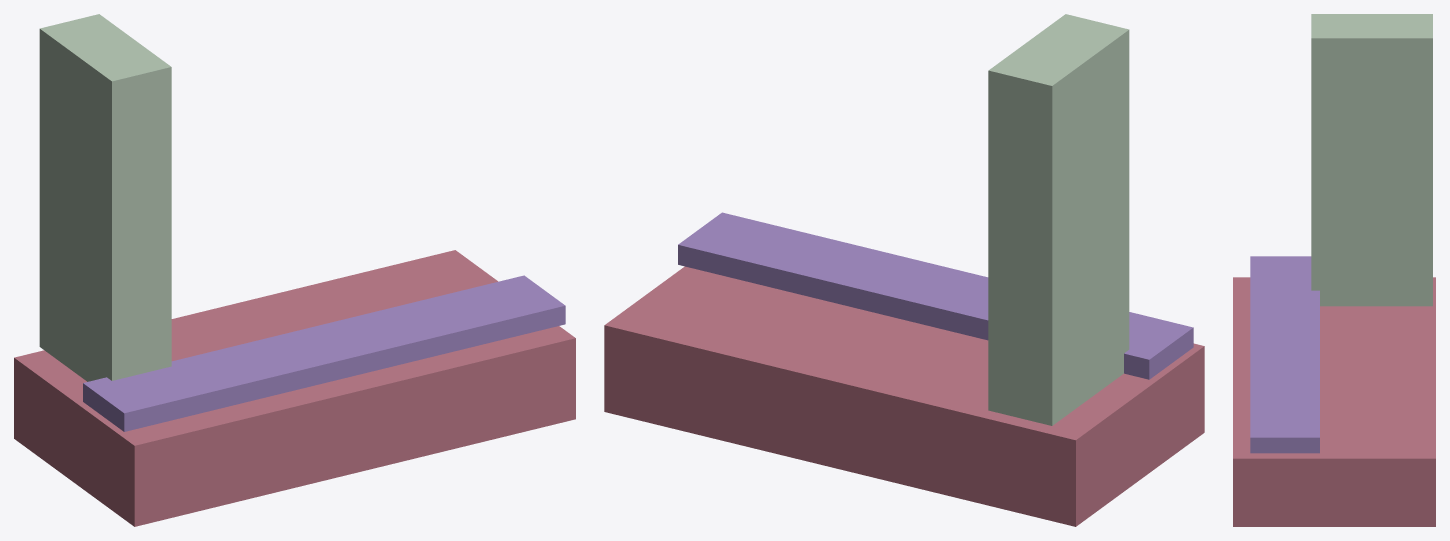
Rendered from 199512_pred.glb.
3 views of the same model, side by side, from view 1: azimuth 30°, elevation 25°; view 2: azimuth 150°, elevation 25°; view 3: azimuth 270°, elevation 25° (orthographic). The views are drawn at different scales.
Visible parts, largest first — view 1: world; view 2: world; view 3: world.
Boxes of the visible parts, <box> form: world: <box>14,14,575,526</box>; world: <box>604,14,1204,526</box>; world: <box>1233,14,1435,526</box>.
Size of the model in its own units: 7.4 by 6.5 by 3.5.
